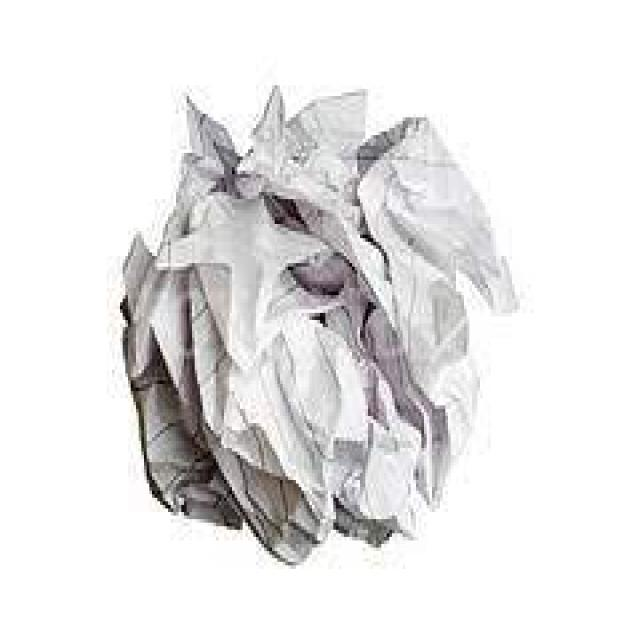Paper -Biodegradable-: (117, 78, 517, 555)
